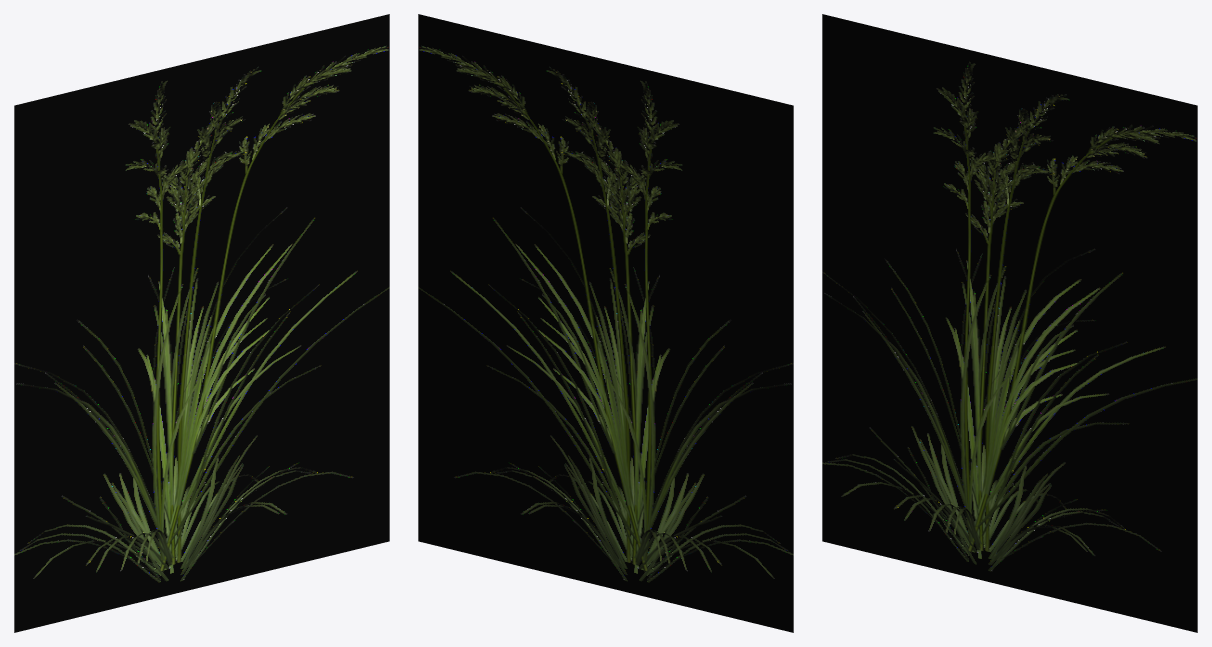
File: prairiegrass.fbx
The picture shows the model from 3 angles, left to right: view 1: azimuth 30°, elevation 25°; view 2: azimuth 150°, elevation 25°; view 3: azimuth 330°, elevation 25°; orthographic projection.
Parts seen in each view (by area): view 1: Plane; view 2: Plane; view 3: Plane.
Boxes of the visible parts, x1,y1,x2,y2 form: Plane: (14,14,389,632); Plane: (418,14,793,632); Plane: (822,14,1197,632).
Size of the model in its own units: 149 by 200 by 8.74e-06.
